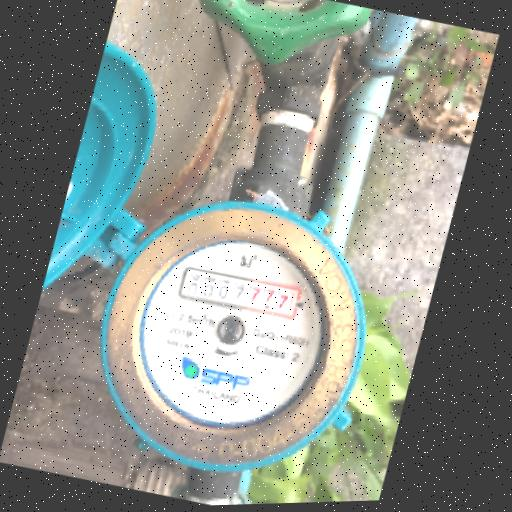0: (214, 279, 230, 302), (201, 277, 216, 299), (186, 274, 201, 295)
7: (275, 292, 292, 314), (246, 286, 262, 308), (230, 282, 245, 305), (261, 289, 277, 310)
border_water_meter_number: (176, 261, 305, 326)
